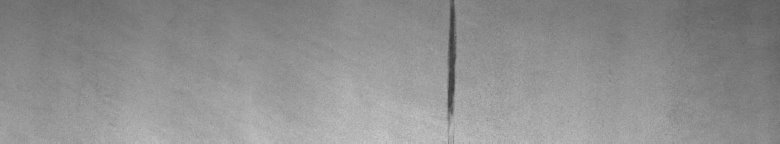hd: (440, 4, 464, 128)
